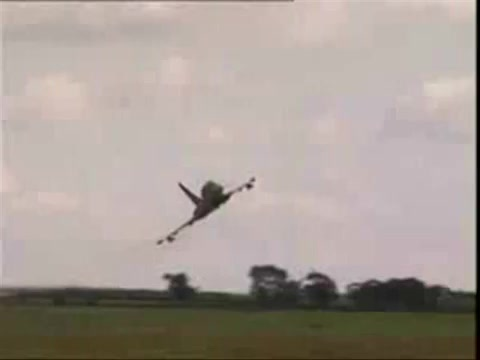aeroplane: (157, 171, 258, 247)
